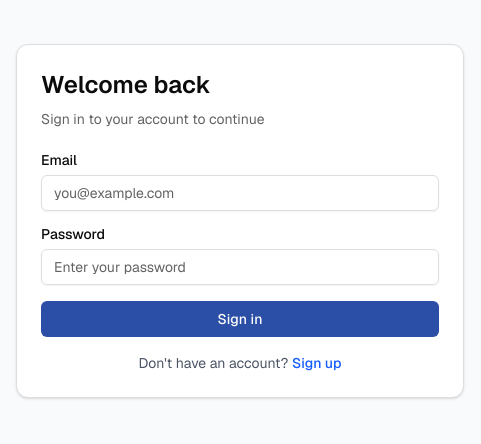
LoginPage › validates required fields
Click the button "Sign in".
click(240, 319)  # box [41,301,439,337]
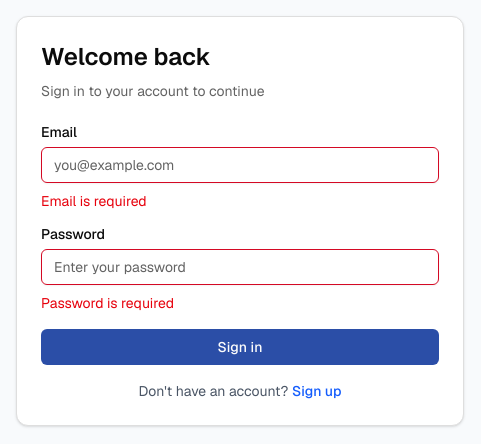
Check: the text "Email is required" is shown, box [41,192,147,210]
Check: the text "Password is required" is shown, box [41,294,174,312]
